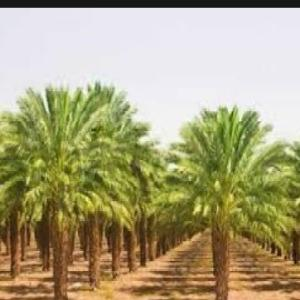palm tree: (165, 102, 289, 299)
